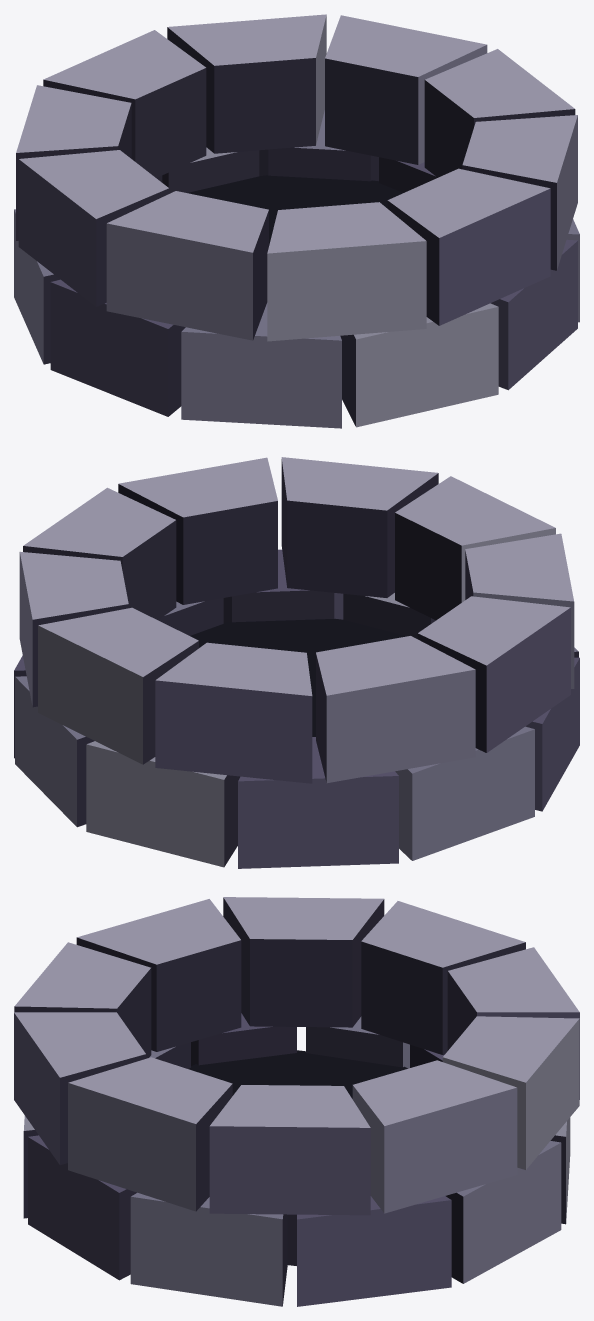
Rendered from well_basic.fbx.
3 renders of one model, top to bottom at view 1: azimuth 30°, elevation 25°; view 2: azimuth 150°, elevation 25°; view 3: azimuth 270°, elevation 25°, orthographic.
Visible parts, largest first — view 1: well_basic; view 2: well_basic; view 3: well_basic.
Part boxes in pixels (<box>): well_basic: <box>14,14,579,428</box>; well_basic: <box>14,457,579,868</box>; well_basic: <box>14,897,579,1306</box>.
Size of the model in its own units: 0.44 by 0.15 by 0.44.
